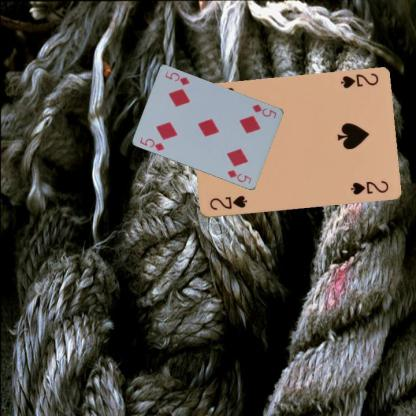2s: (338, 71, 380, 90), (207, 193, 248, 212)
5d: (137, 135, 166, 152), (250, 102, 278, 119)
